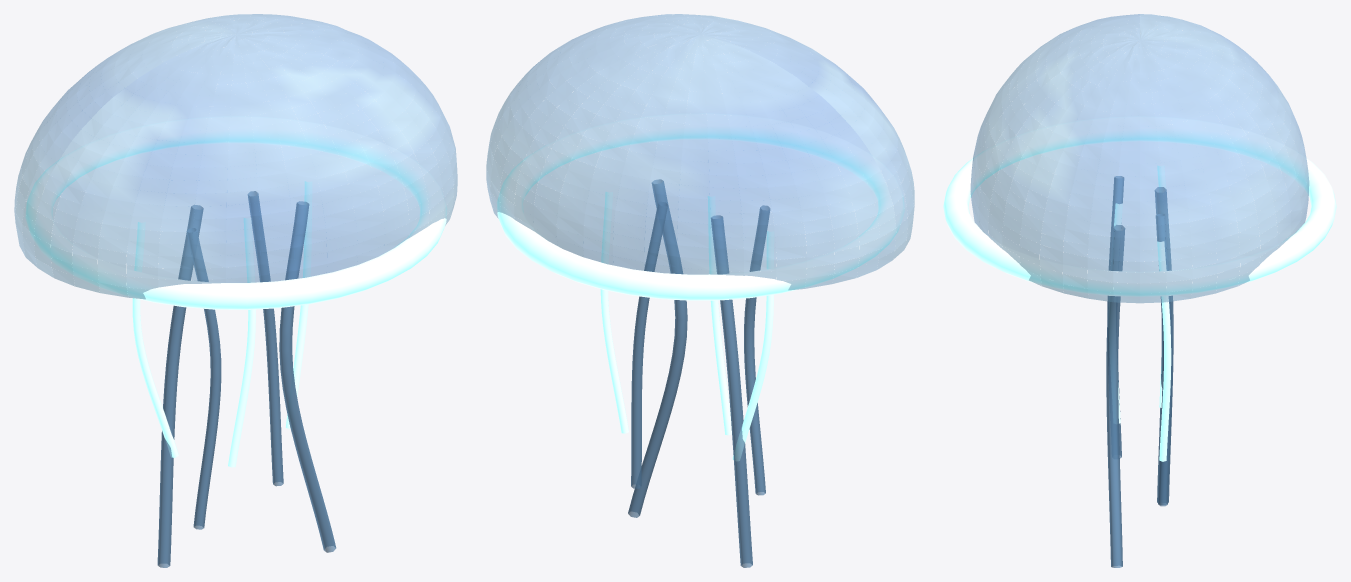
Rendered from moon-jelly.glb.
The picture shows the model from 3 angles, left to right: view 1: azimuth 30°, elevation 25°; view 2: azimuth 150°, elevation 25°; view 3: azimuth 270°, elevation 25°; orthographic projection. The views are drawn at different scales.
Parts seen in each view (by area): view 1: body, glowing_rim, tentacle (×7); view 2: body, glowing_rim, tentacle (×7); view 3: body, glowing_rim, tentacle (×5).
Part boxes in pixels (x1,y1,x2,y2): body: (14, 14, 457, 299); glowing_rim: (25, 116, 447, 309); tentacle (×7): (132, 181, 336, 567); body: (486, 14, 914, 290); glowing_rim: (497, 113, 904, 300); tentacle (×7): (600, 179, 774, 567); body: (970, 14, 1309, 303); glowing_rim: (943, 116, 1336, 296); tentacle (×5): (1106, 176, 1173, 567).
Bounding box in the file's own units: 1.89 × 2.35 × 1.71.
